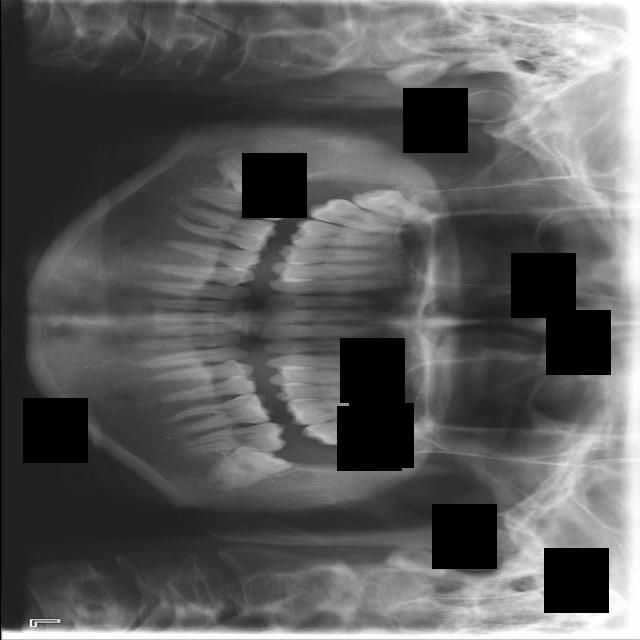3M ESPE Implant: (349, 178, 439, 231)
73: (45, 610, 63, 618)
BioHorizons Implant: (300, 404, 410, 452)
BioLife Implant: (347, 413, 432, 466)
Biomet 3i Implant: (199, 430, 293, 502)
Blue Sky Bio Implant: (186, 422, 285, 454)
Caries: (305, 192, 409, 238)
Implant: (188, 187, 294, 223)
Keystone Dental Implant: (210, 147, 296, 201)
